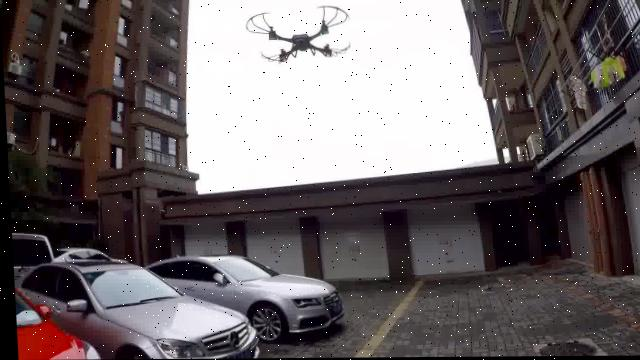drone: (242, 0, 382, 65)
